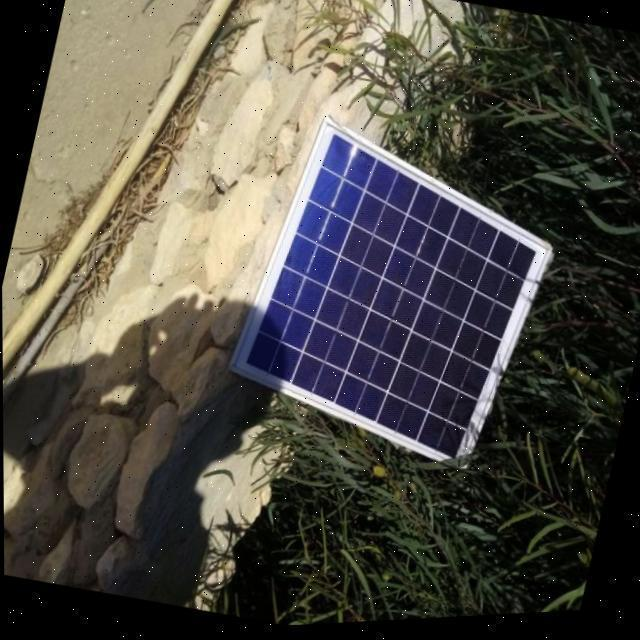Normal Solar Panel: (216, 102, 572, 486)
